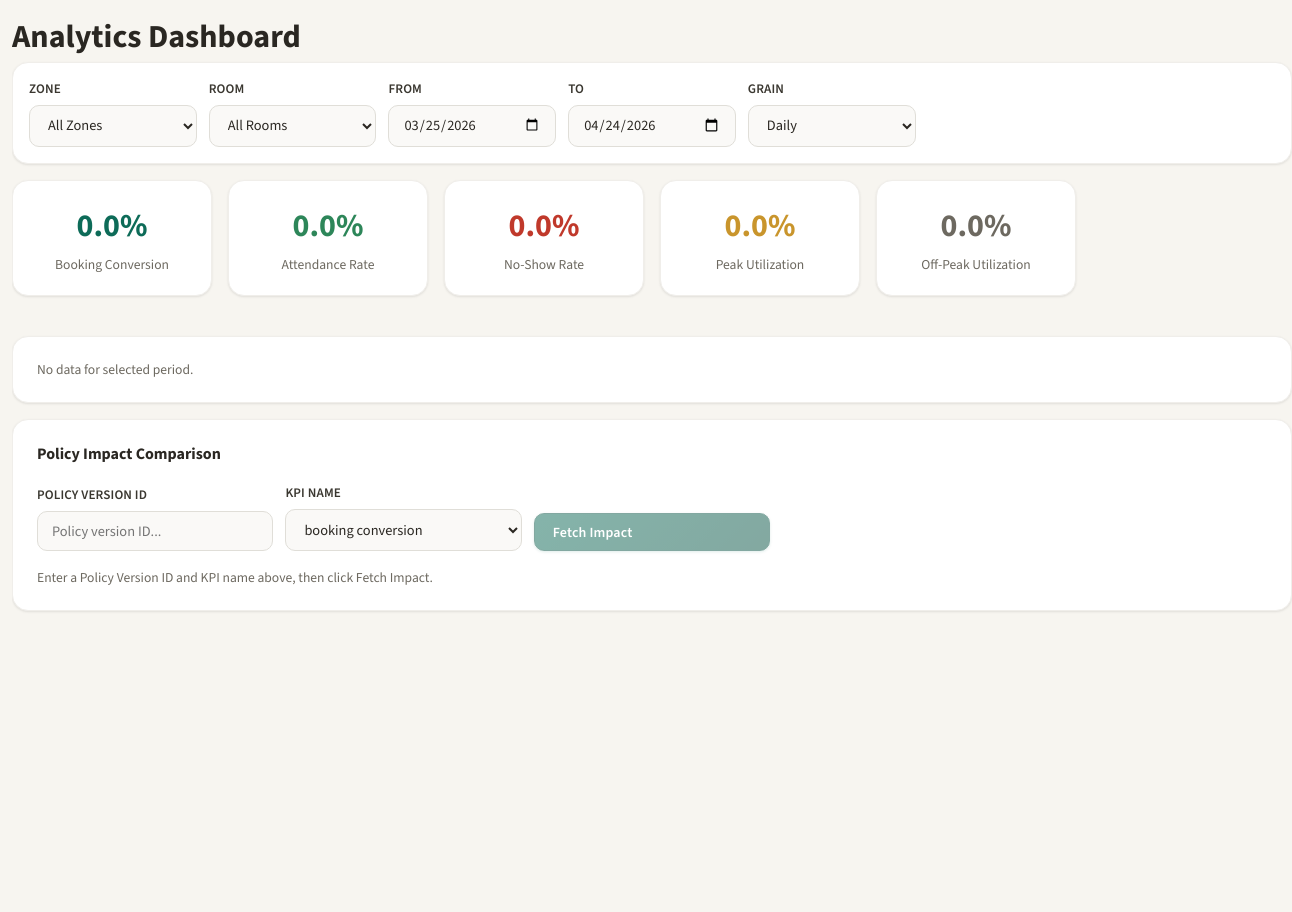
Test: AnalyticsPage › Policy Impact section › fetches policy impact and renders comparison table
This screenshot has width=1292, height=912.
Type "pol-v1-abc" into the field with placeholder "Policy version ID..." at (155, 531), box [37, 511, 273, 551]
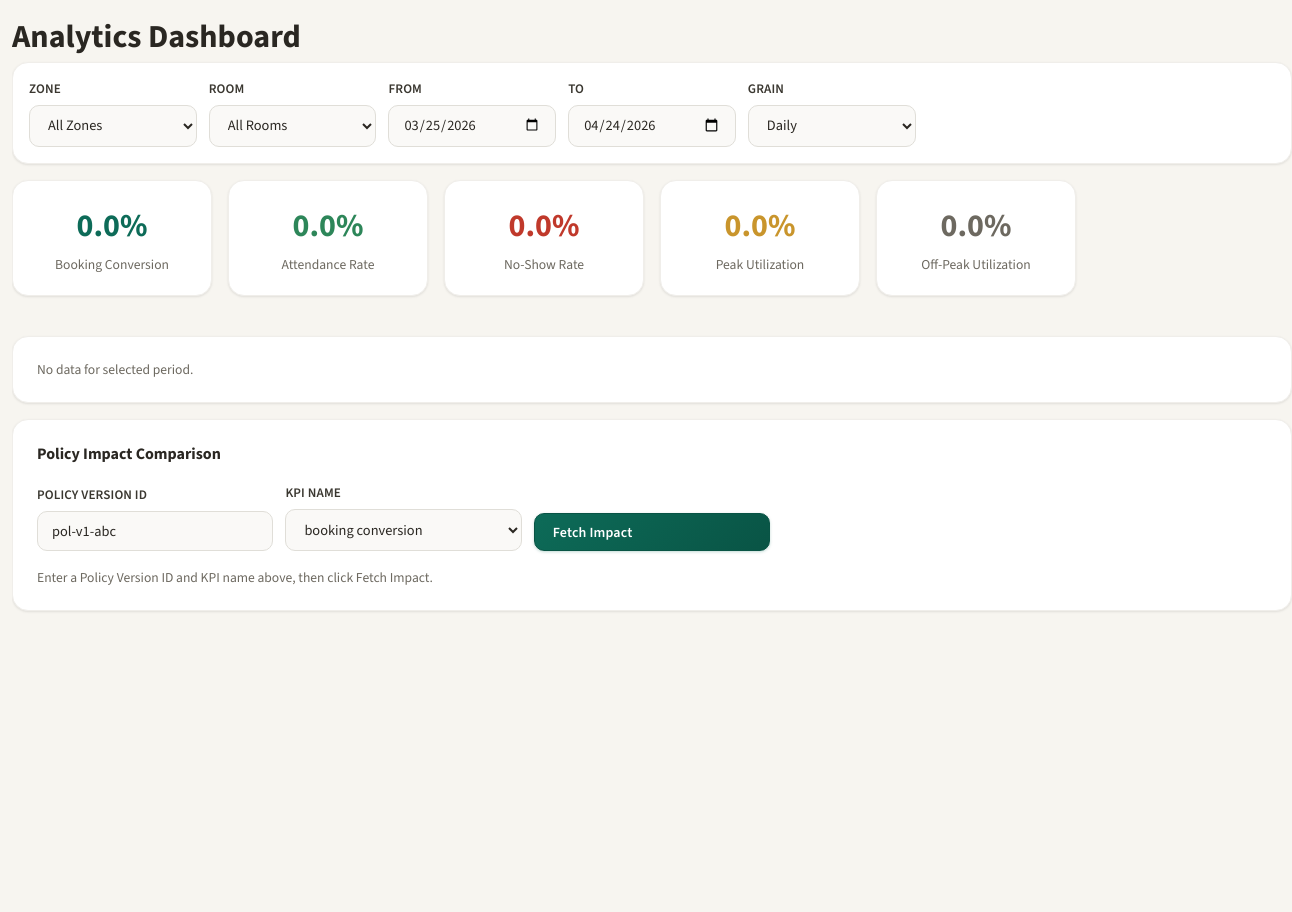
Click the button "Fetch Impact" at (652, 532), box [534, 513, 770, 551]
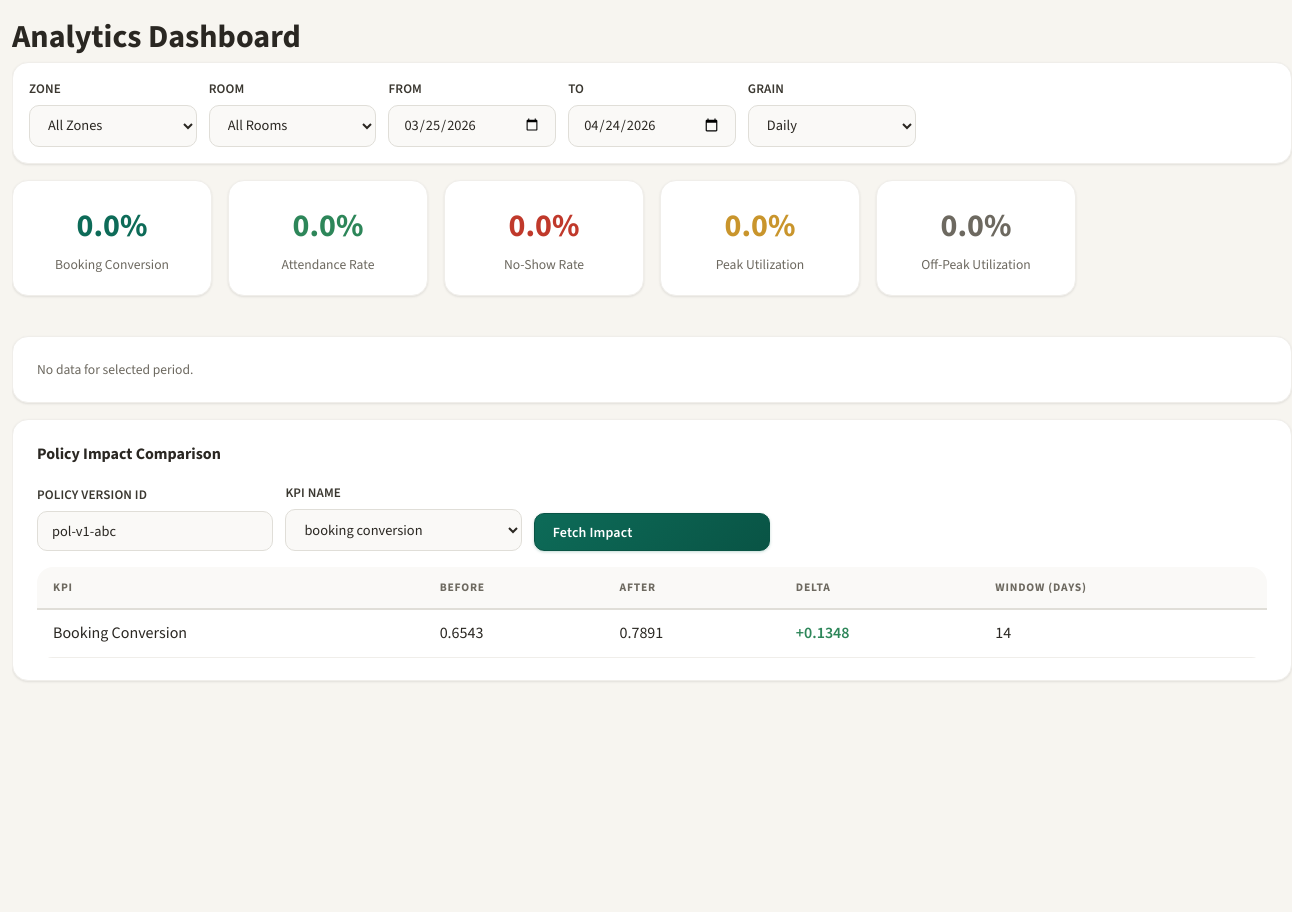
Expected: the text "0.6543" is shown, [424, 609, 604, 657]
Expected: the text "0.7891" is shown, [604, 609, 780, 657]
Expected: the text "+0.1348" is shown, [796, 622, 850, 643]
